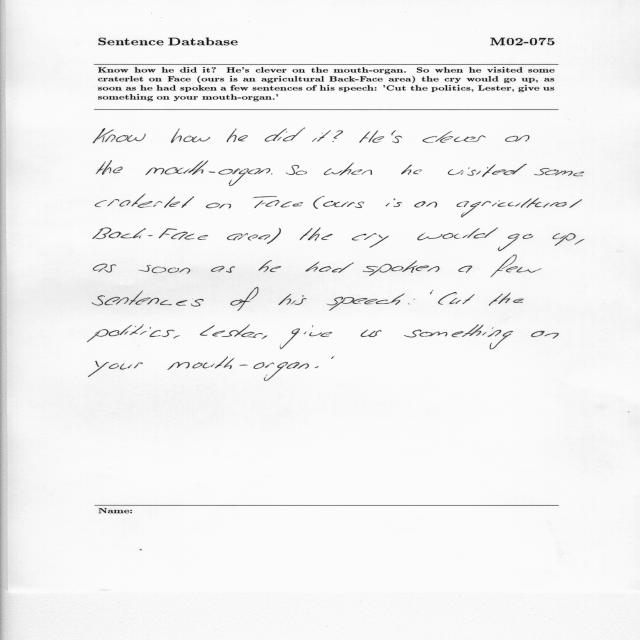word: (167, 356, 309, 381), (146, 161, 271, 186), (404, 325, 513, 350), (457, 198, 582, 217), (92, 291, 204, 307), (87, 325, 175, 342), (327, 293, 405, 311), (95, 194, 194, 208), (93, 228, 208, 240), (280, 326, 332, 350), (363, 261, 439, 276), (491, 255, 542, 277), (448, 164, 527, 177), (417, 228, 498, 240), (88, 361, 143, 377), (200, 325, 263, 338), (93, 128, 146, 143), (422, 131, 486, 143), (324, 162, 372, 176), (231, 287, 259, 311), (253, 196, 303, 208), (498, 234, 533, 251), (265, 128, 305, 142), (352, 233, 389, 248), (171, 129, 210, 143), (305, 262, 354, 273), (438, 292, 475, 305), (139, 265, 191, 274), (489, 293, 524, 306), (300, 228, 333, 241), (534, 168, 584, 176), (96, 161, 123, 175), (258, 228, 281, 244), (360, 130, 385, 143), (279, 294, 307, 305), (553, 233, 576, 246), (323, 201, 364, 208), (227, 129, 248, 142), (259, 260, 281, 272), (227, 233, 258, 241), (312, 130, 331, 142), (531, 331, 559, 339), (286, 165, 307, 175), (401, 165, 422, 175), (93, 264, 116, 273), (505, 135, 529, 142), (211, 266, 235, 273), (361, 330, 382, 338), (414, 201, 437, 208), (313, 196, 325, 209), (206, 203, 231, 209), (386, 198, 402, 207), (392, 130, 403, 143), (333, 130, 343, 142), (458, 265, 472, 273), (575, 239, 585, 245), (408, 299, 415, 304), (173, 335, 180, 339), (262, 336, 267, 340), (430, 290, 433, 294), (331, 356, 334, 359), (315, 367, 318, 369), (271, 173, 272, 175)
